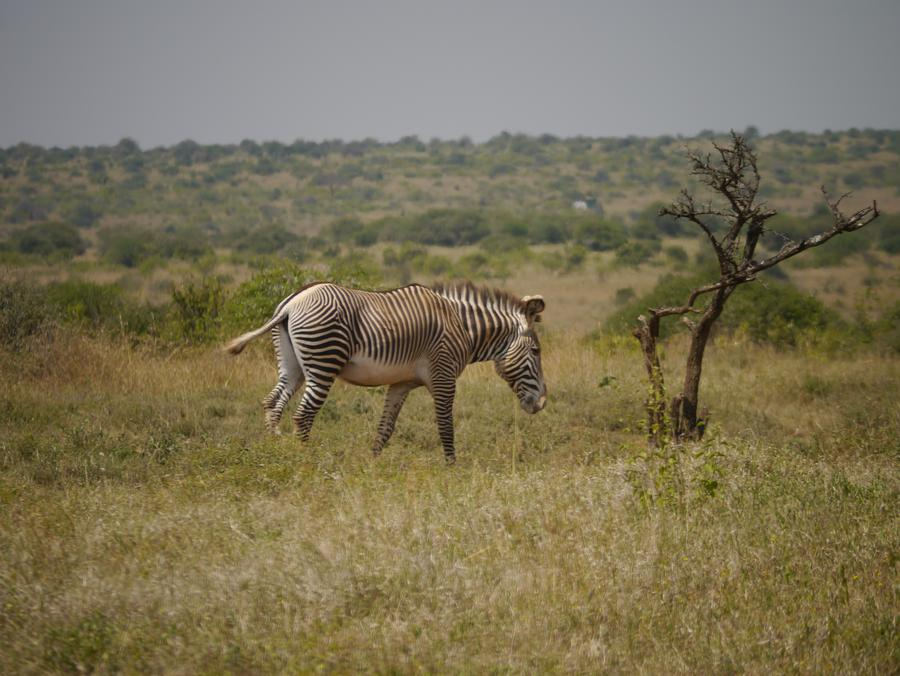zebra_grevys: (274, 267, 462, 381)
